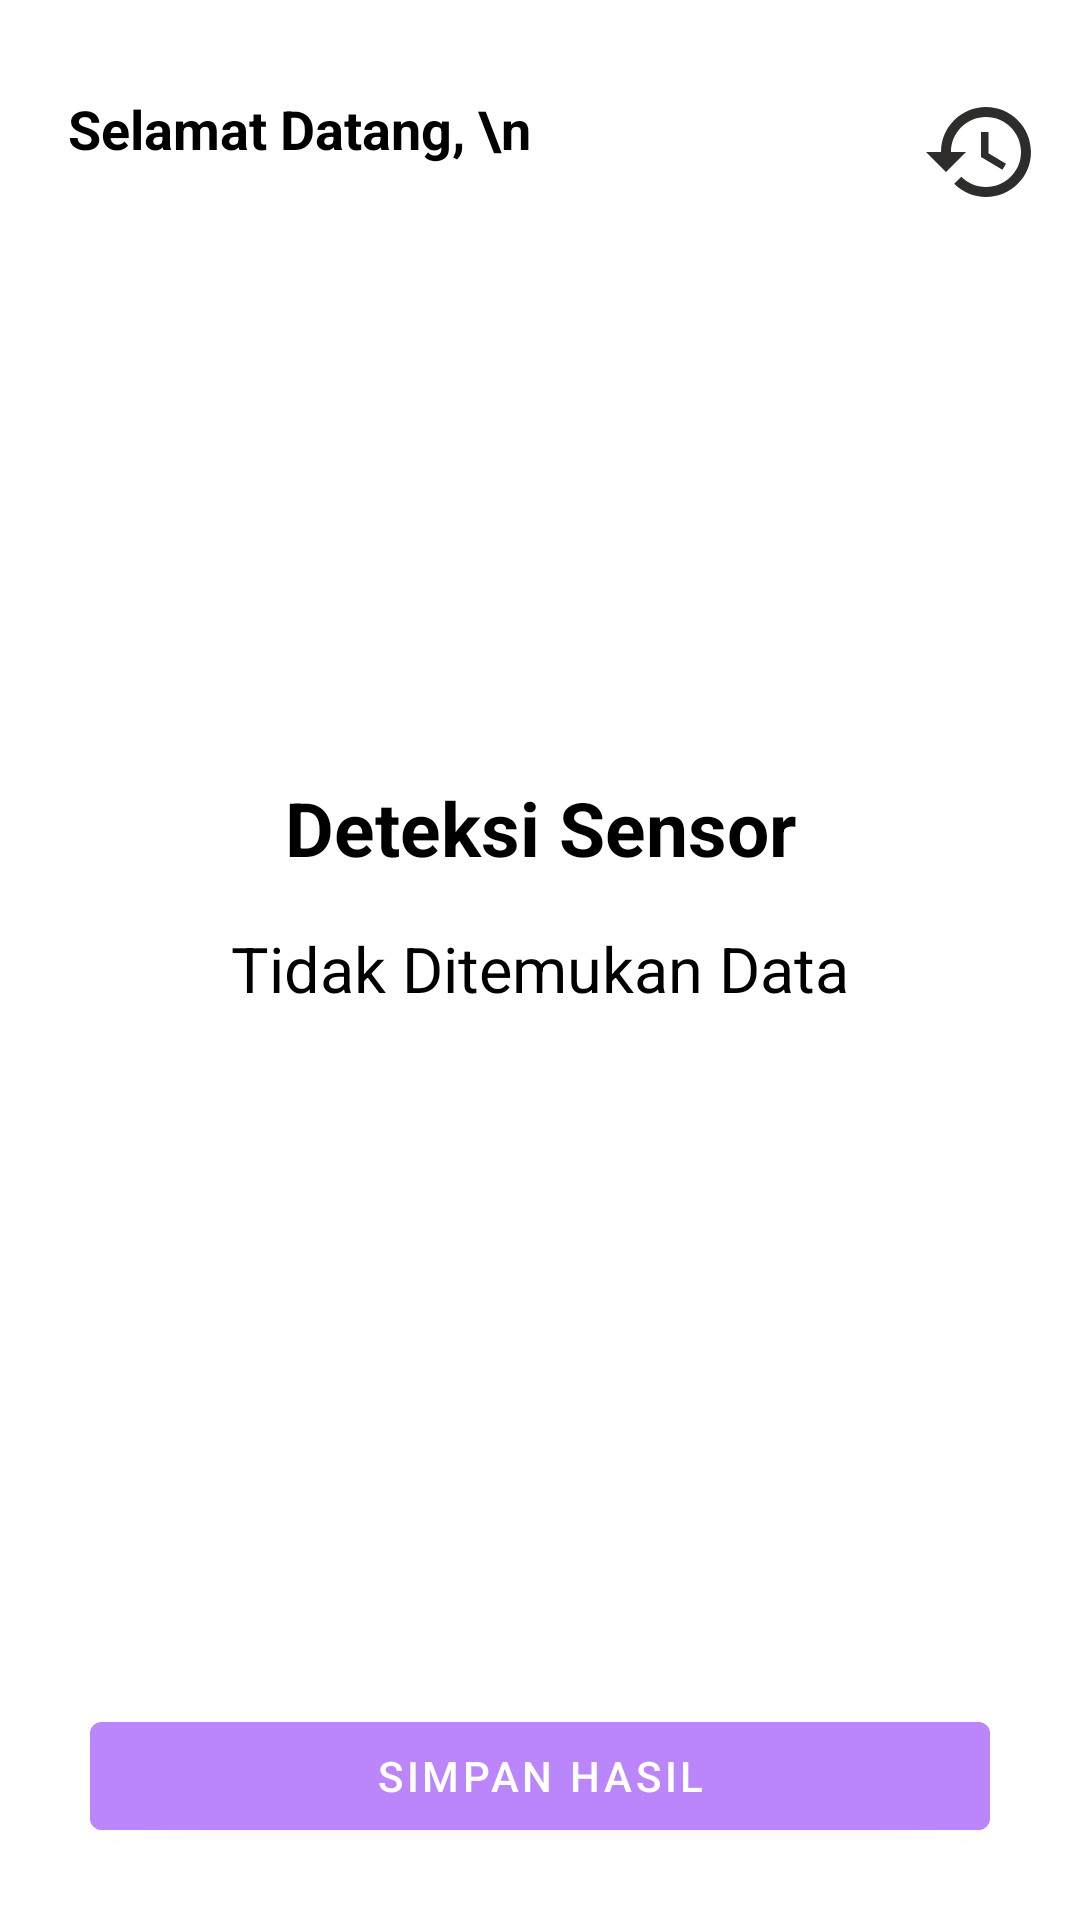

Icon bounding boxes for this 1080*1920 phone screenshot, format (x1, y1, x2, y2):
history: (926, 107, 1031, 197)
